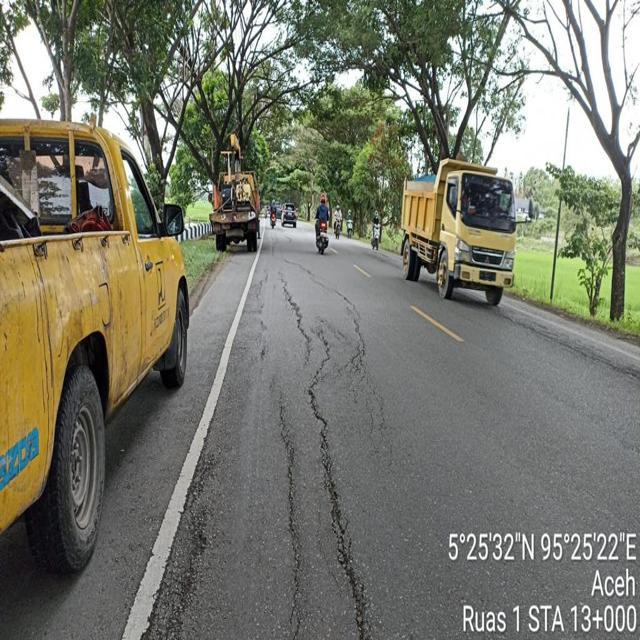Memanjang: (275, 275, 380, 640)
